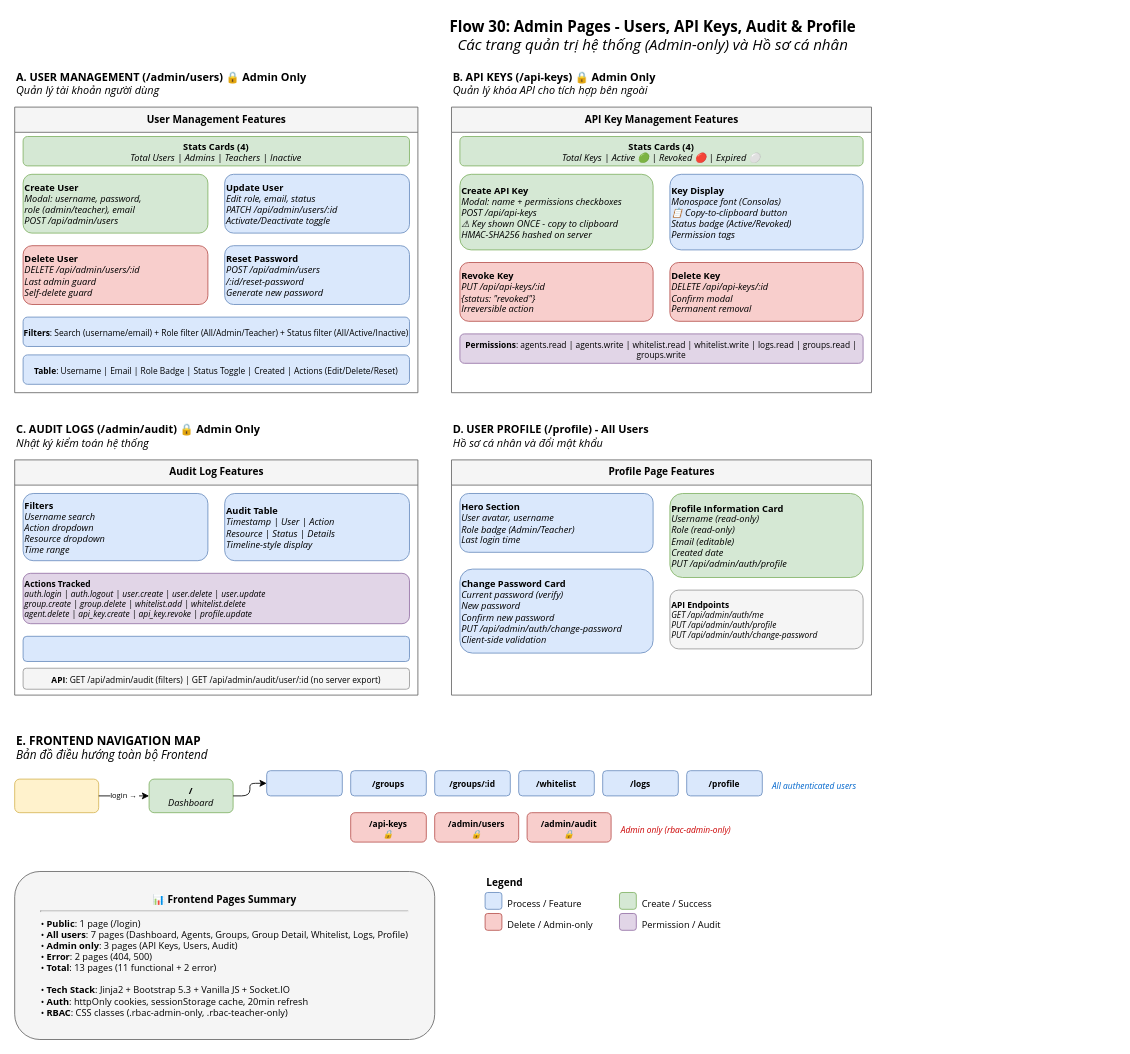
Image size: 1130x1054. Some labels were removed from this diagram. The centre of each missing label's shape, as x and y in pixels:
"/agents" belongs at [304,783].
"/login Public" belongs at [56,795].
"Resource Types : Auth | Users | Groups | Whitelist | Agents | Profile" belongs at [216,648].
